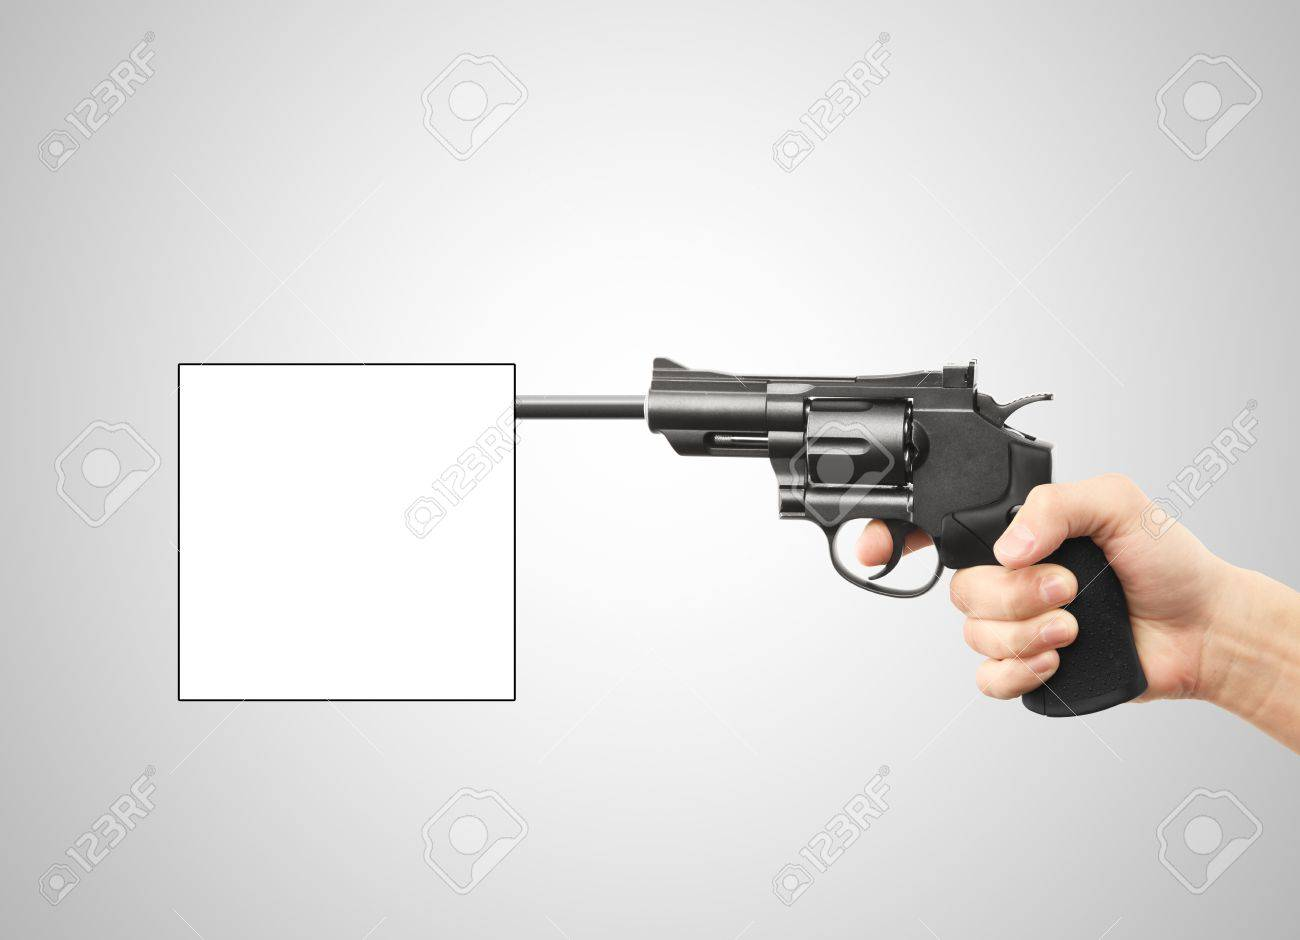pistol: (525, 273, 1251, 748)
